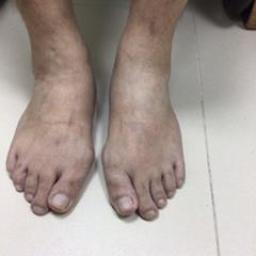Dorsal View -Both Feet-: (3, 12, 196, 228)
